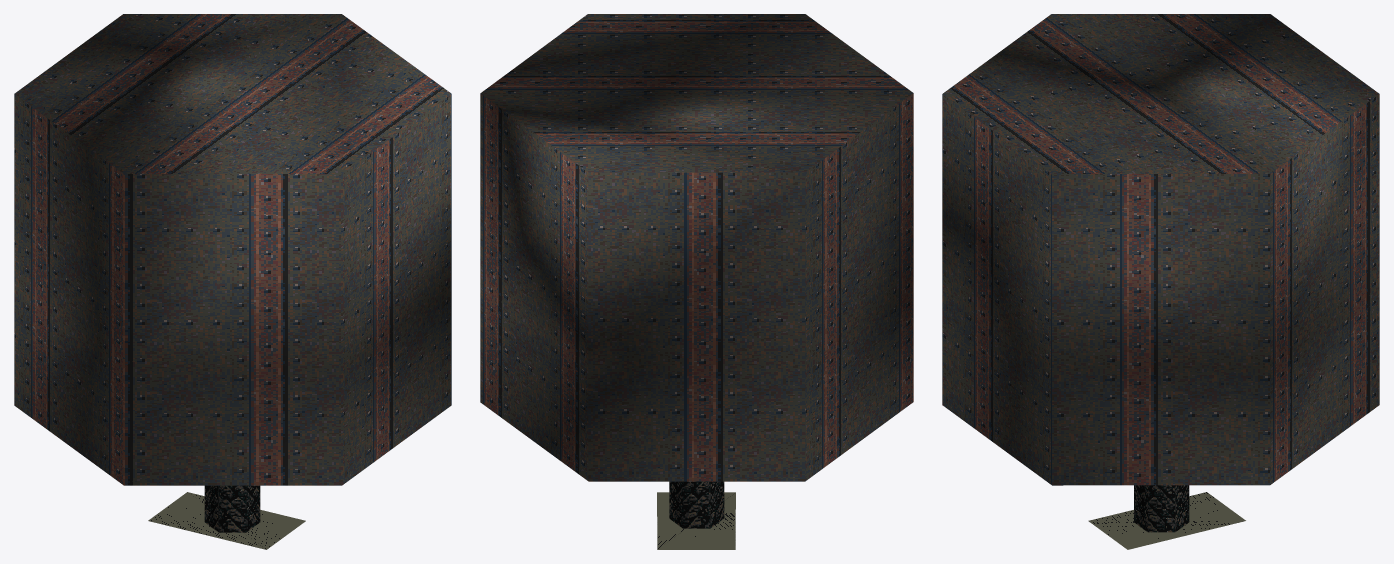
Rendered from BossSce-DeathTemple.obj.
3 renders of one model, left to right at view 1: azimuth 30°, elevation 25°; view 2: azimuth 150°, elevation 25°; view 3: azimuth 270°, elevation 25°, orthographic.
Visible parts, largest first — view 1: #Room1#_Room1_SDFLTB.#MirrorY, #Room0#_BlackPlane#NoMesh#BlackPlane_CrackStone#SFX_2, #Room1#_Room1_Filler.; view 2: #Room1#_Room1_SDFLTB.#MirrorY, #Room0#_BlackPlane#NoMesh#BlackPlane_CrackStone#SFX_2, #Room1#_Room1_Filler.; view 3: #Room1#_Room1_SDFLTB.#MirrorY, #Room0#_BlackPlane#NoMesh#BlackPlane_CrackStone#SFX_2, #Room1#_Room1_Filler..
Boxes of the visible parts, x1,y1,x2,y2 form: #Room1#_Room1_SDFLTB.#MirrorY: [14, 14, 451, 485]; #Room0#_BlackPlane#NoMesh#BlackPlane_CrackStone#SFX_2: [148, 492, 305, 549]; #Room1#_Room1_Filler.: [204, 485, 260, 532]; #Room1#_Room1_SDFLTB.#MirrorY: [480, 14, 913, 481]; #Room0#_BlackPlane#NoMesh#BlackPlane_CrackStone#SFX_2: [657, 492, 735, 549]; #Room1#_Room1_Filler.: [669, 481, 724, 528]; #Room1#_Room1_SDFLTB.#MirrorY: [942, 14, 1379, 485]; #Room0#_BlackPlane#NoMesh#BlackPlane_CrackStone#SFX_2: [1088, 492, 1245, 549]; #Room1#_Room1_Filler.: [1134, 485, 1189, 532].
Size of what is drawn, in the model's own units: 1327 by 1655 by 1531.
4 materials, 4 textured.
